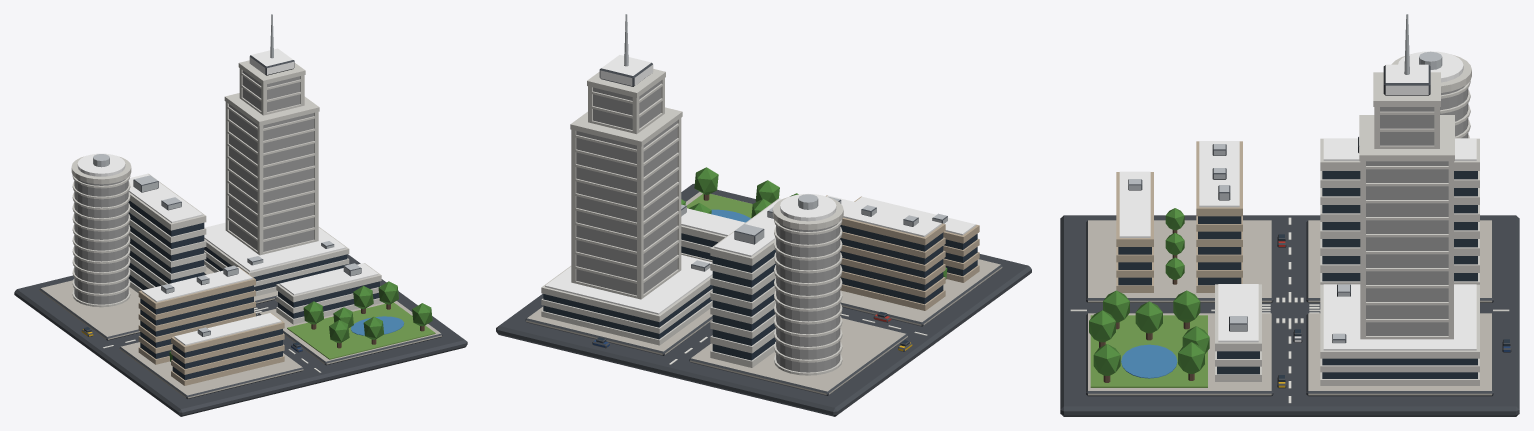
The model's file is city.glb.
3 views of the same model, side by side, from view 1: azimuth 30°, elevation 25°; view 2: azimuth 150°, elevation 25°; view 3: azimuth 270°, elevation 25° (orthographic). The views are drawn at different scales.
Parts seen in each view (by area): view 1: City; view 2: City; view 3: City.
Part boxes in pixels (x1=…): City: x1=14, y1=14, x2=467, y2=416; City: x1=496, y1=14, x2=1031, y2=416; City: x1=1060, y1=14, x2=1519, y2=416.
Size of the model in its own units: 0.98 by 0.839 by 0.98.
